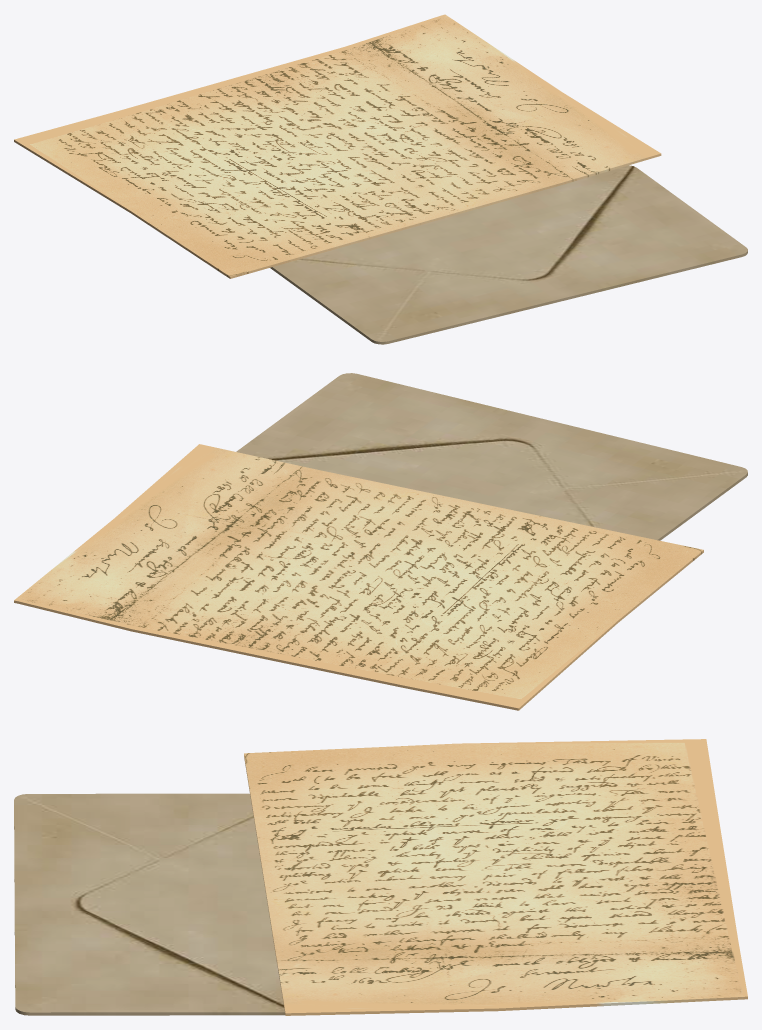
Rendered from letter.fbx.
3 renders of one model, top to bottom at view 1: azimuth 30°, elevation 25°; view 2: azimuth 150°, elevation 25°; view 3: azimuth 270°, elevation 25°, orthographic. The views are drawn at different scales.
Visible parts, largest first — view 1: pCube27, pCube3; view 2: pCube27, pCube3; view 3: pCube27, pCube3.
Part boxes in pixels (x1,y1,x2,y2): pCube27: [14, 14, 661, 278]; pCube3: [270, 165, 747, 344]; pCube27: [14, 444, 703, 710]; pCube3: [236, 373, 747, 540]; pCube27: [244, 739, 747, 1015]; pCube3: [14, 793, 285, 1015].
Size of the model in its own units: 7.81 by 0.2468 by 8.83.
